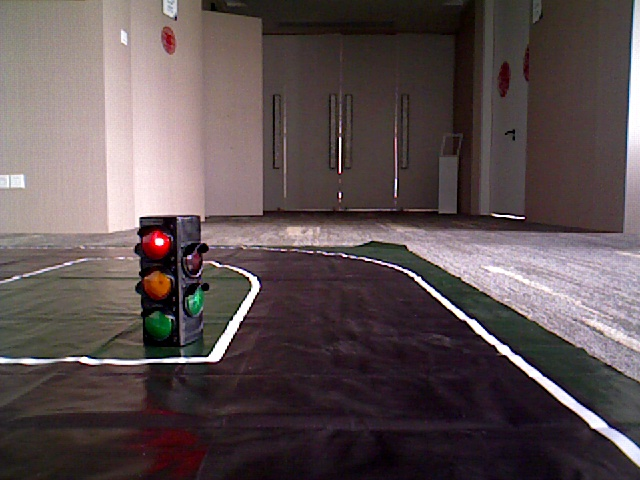red: (139, 219, 183, 340)
